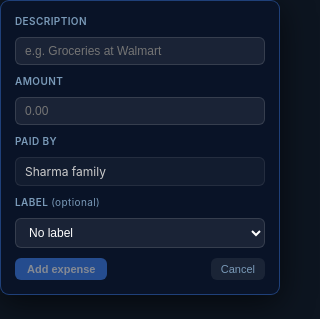
Scenario: ExpenseEditForm › shows new label input when Create new label is selected
Select "+ Create new label…" in the dropdown with test id "form-label": (140, 233) [15,218,265,248]
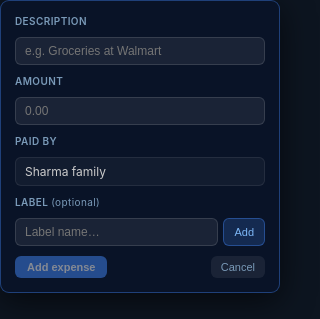
Now the field with test id "new-label-input" is shown, box [15,218,218,246]
